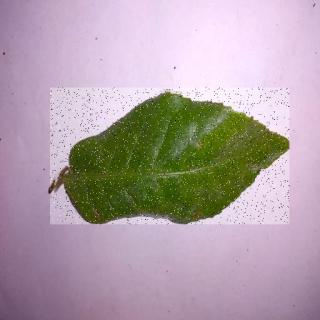Bird Eye Spot: (51, 89, 291, 226)
